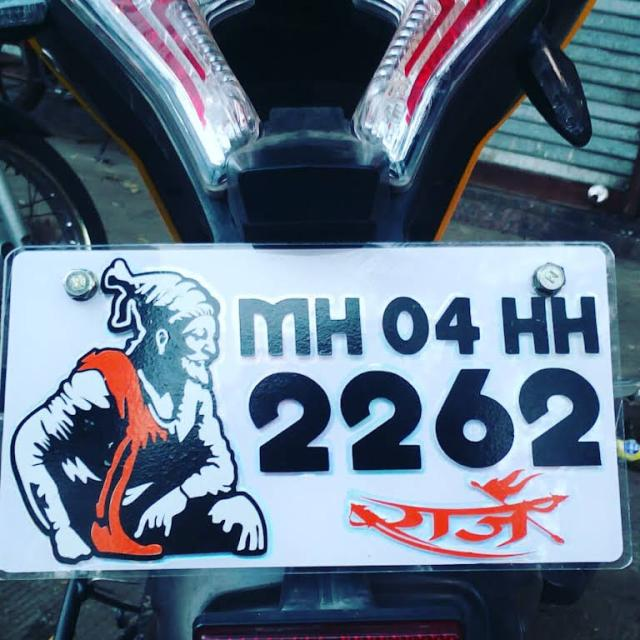number plate: (1, 239, 629, 579)
